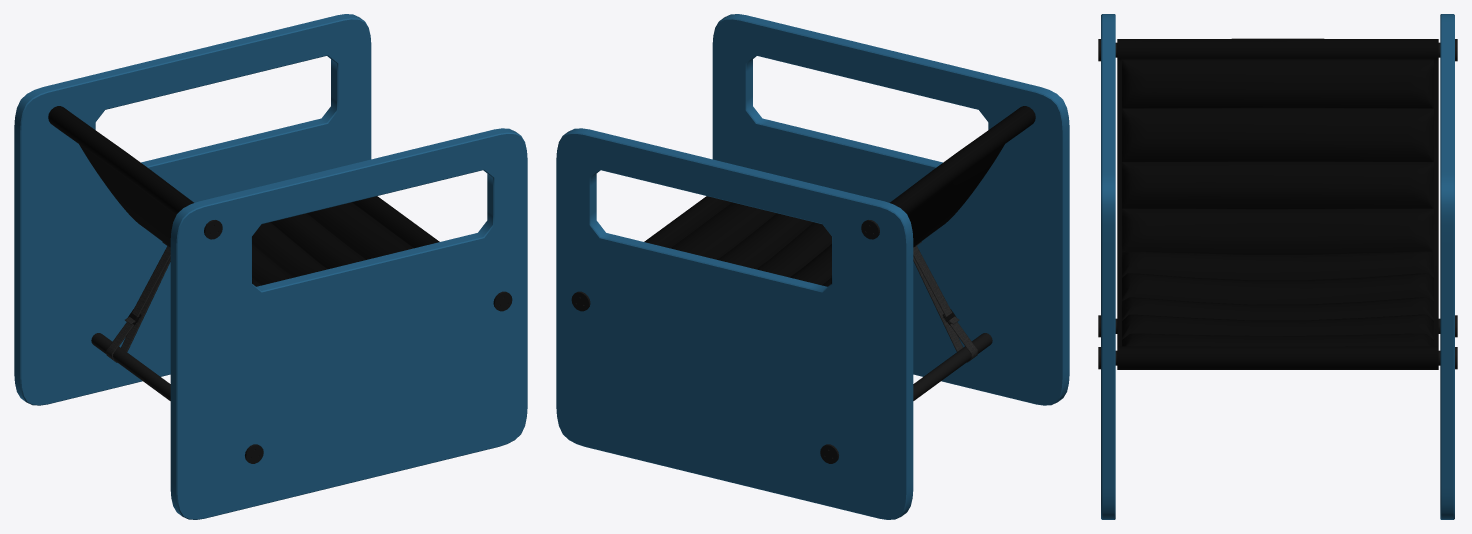
3 renders of one model, left to right at view 1: azimuth 30°, elevation 25°; view 2: azimuth 150°, elevation 25°; view 3: azimuth 270°, elevation 25°, orthographic. The views are drawn at different scales.
Parts seen in each view (by area): view 1: AM121_043_00; view 2: AM121_043_00; view 3: AM121_043_00.
Part boxes in pixels (left/top/right/bottom): AM121_043_00: left=14, top=14, right=527, bottom=519; AM121_043_00: left=556, top=14, right=1069, bottom=519; AM121_043_00: left=1098, top=14, right=1457, bottom=519.
Size of the model in its own units: 33.73 by 28.72 by 27.54.
5 materials, 1 textured.
